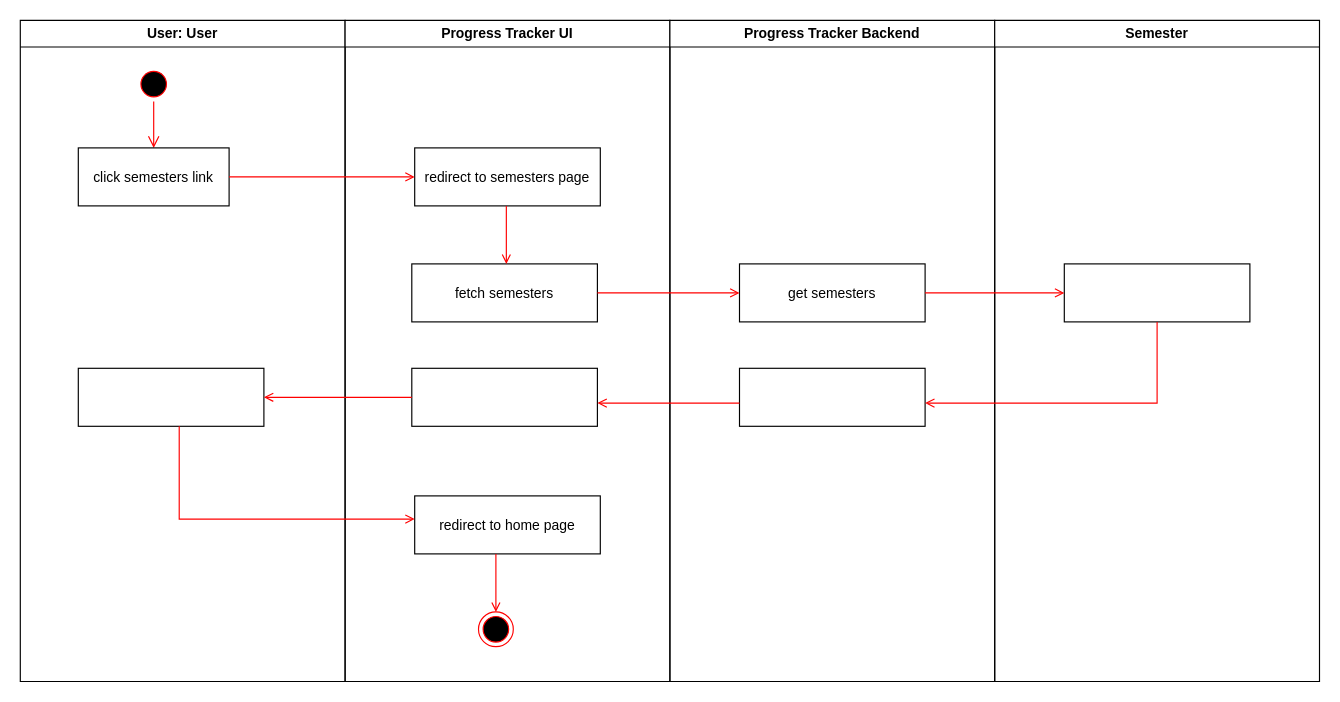
This 1340x702 diagram has some shape labels left out. Each missing label, with the box of its shape:
click link to home page: (77, 367, 264, 426)
get semesters for user: (1063, 263, 1250, 322)
render semesters: (411, 367, 597, 426)
serialize semesters: (738, 367, 925, 426)
